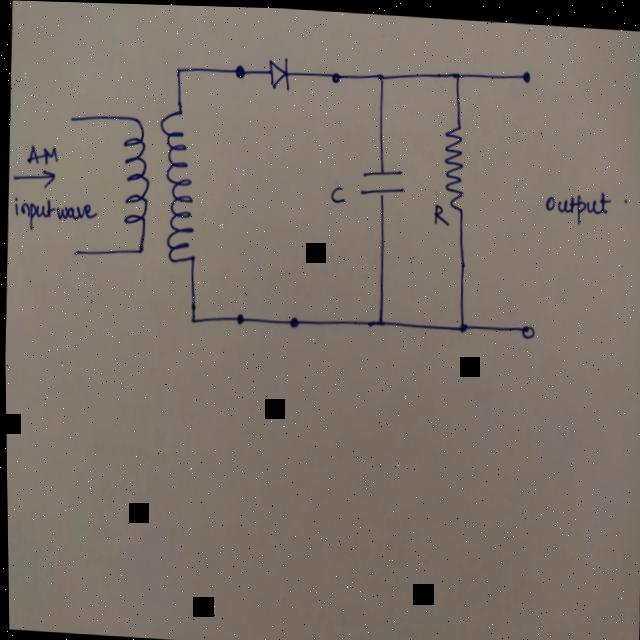capacitor: (357, 161, 403, 196)
diode: (265, 52, 289, 90)
junction: (230, 59, 247, 81), (452, 314, 467, 331), (328, 67, 341, 83), (448, 62, 460, 79), (232, 308, 244, 325), (185, 311, 197, 325), (286, 312, 298, 326), (375, 68, 385, 82), (374, 312, 384, 326), (172, 62, 181, 76)
resistor: (438, 117, 464, 213)
terminal: (517, 315, 533, 336), (516, 62, 530, 82), (68, 246, 78, 258), (66, 112, 74, 123)
text: (7, 138, 97, 232), (540, 182, 610, 223), (431, 196, 448, 224), (327, 179, 343, 201)
transformer: (117, 104, 197, 264)
